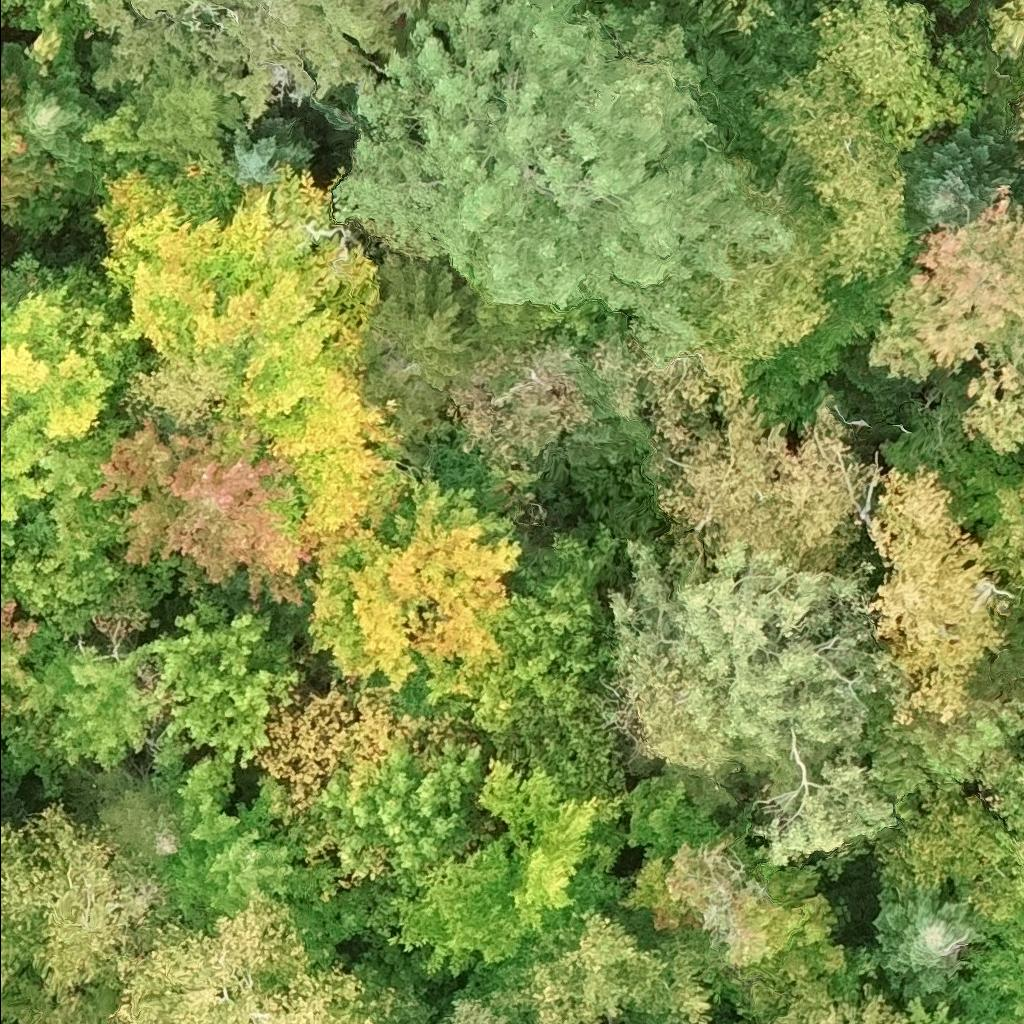crown: (325, 0, 797, 365), (611, 536, 886, 868), (91, 161, 375, 419), (381, 755, 630, 978), (644, 346, 881, 568), (305, 473, 525, 705), (87, 413, 316, 615), (86, 0, 426, 129), (97, 890, 400, 1023), (0, 249, 144, 527), (863, 462, 1008, 727), (747, 58, 910, 288), (234, 363, 409, 559), (618, 831, 847, 980), (683, 156, 841, 371), (868, 182, 1023, 382), (82, 49, 248, 224), (28, 797, 166, 1006), (135, 599, 301, 770), (811, 0, 980, 154), (470, 557, 603, 733), (511, 910, 716, 1023), (320, 738, 488, 869), (0, 31, 112, 212), (15, 644, 163, 771), (868, 779, 1009, 900), (366, 245, 484, 389), (898, 103, 1023, 237), (34, 418, 137, 575), (873, 878, 984, 1011), (0, 520, 122, 637), (68, 764, 179, 877), (749, 948, 908, 1023), (970, 739, 1023, 948), (109, 350, 244, 431), (223, 102, 321, 201), (0, 64, 55, 223), (960, 320, 1023, 453), (956, 466, 1023, 584), (0, 0, 99, 79), (0, 820, 45, 983), (0, 960, 100, 1023), (985, 0, 1023, 141), (0, 598, 38, 722), (674, 0, 776, 42), (435, 992, 512, 1023), (903, 994, 961, 1023), (921, 0, 972, 15), (1018, 156, 1023, 166), (0, 815, 5, 822), (400, 1022, 405, 1023), (994, 1022, 998, 1023)
